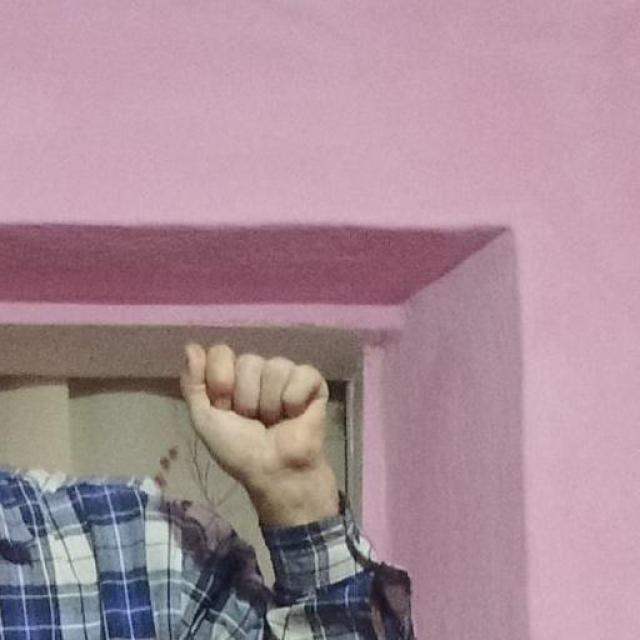hand: (176, 340, 342, 529)
